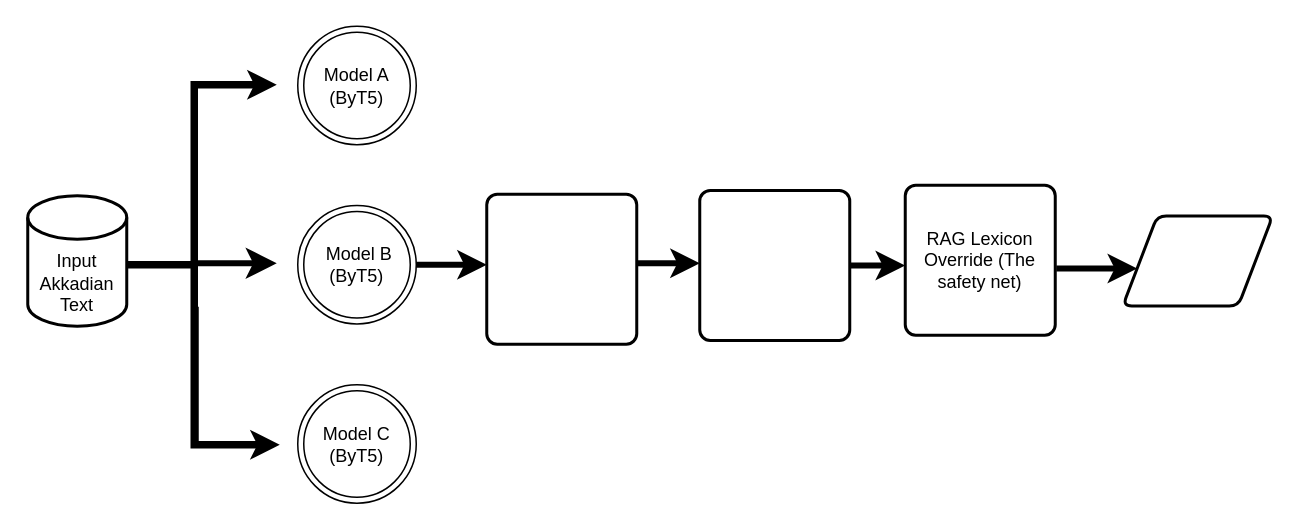
The diagram is 1299 pixels wide and 530 high, and some of its shapes have lost their labels. The shapes that lost their labels are listed below. From the top down, each one's centre as x and y in pixels, then its label:
the point at 561,268: Diverse Beam Search + Temp Sampling (Generating candidates)
the point at 774,264: RoBERTa CoLA MBR Selector (Voting mechanism)
the point at 1197,260: Final English Translation
